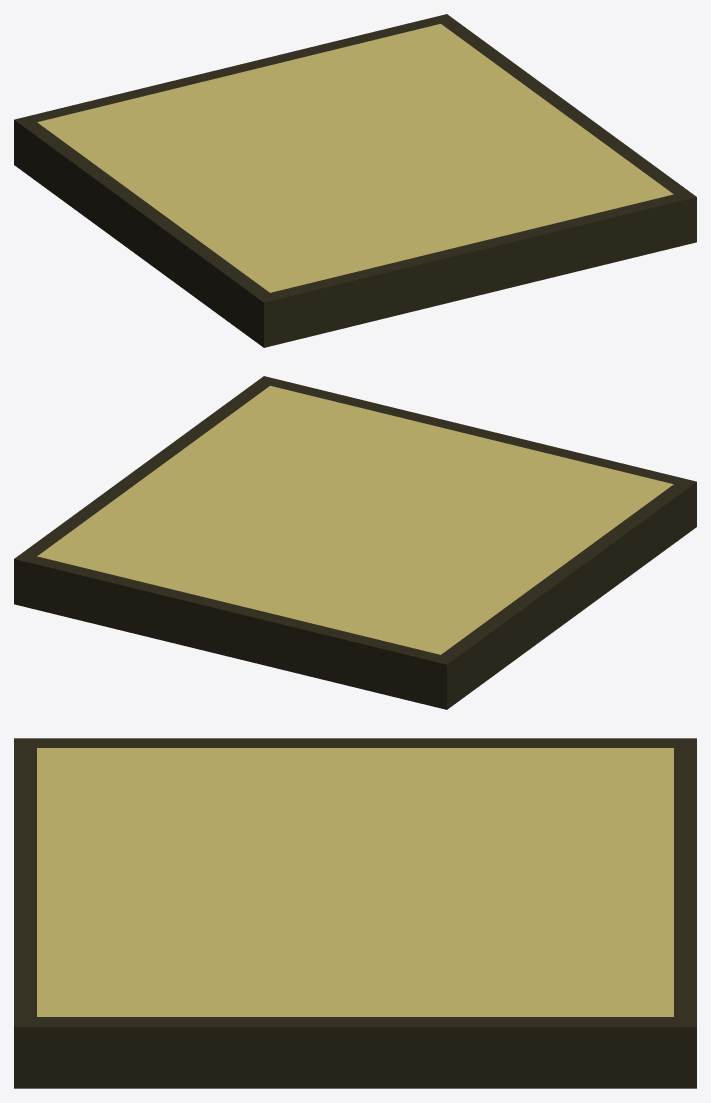
Rendered from simpleRoof.obj.
3 views of the same model, one above another, from view 1: azimuth 30°, elevation 25°; view 2: azimuth 150°, elevation 25°; view 3: azimuth 270°, elevation 25° (orthographic). The views are drawn at different scales.
Visible parts, largest first — view 1: Cube_Cube.008; view 2: Cube_Cube.008; view 3: Cube_Cube.008.
Boxes of the visible parts, x1=… form: Cube_Cube.008: x1=14, y1=14, x2=696, y2=347; Cube_Cube.008: x1=14, y1=376, x2=696, y2=709; Cube_Cube.008: x1=14, y1=738, x2=696, y2=1088.
Size of the model in its own units: 1 by 0.1 by 1.
